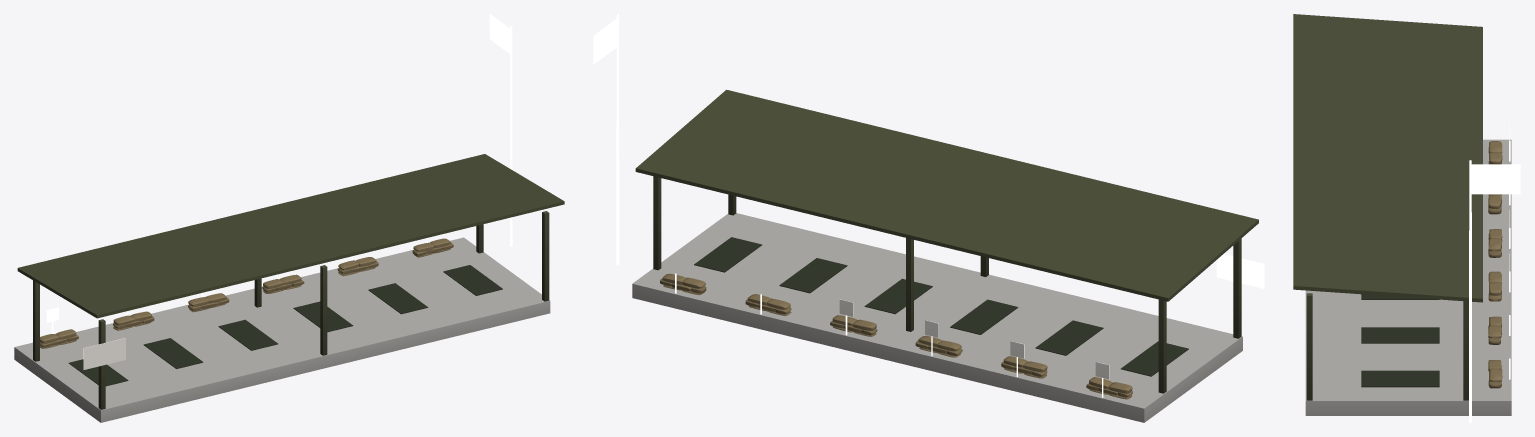
Rendered from range_firing_point.glb.
The picture shows the model from 3 angles, left to right: view 1: azimuth 30°, elevation 25°; view 2: azimuth 150°, elevation 25°; view 3: azimuth 270°, elevation 25°; orthographic projection. The views are drawn at different scales.
Visible parts, largest first — view 1: range_firing_point_LOD0; view 2: range_firing_point_LOD0; view 3: range_firing_point_LOD0.
Part boxes in pixels (x1,y1,x2,y2): range_firing_point_LOD0: [14, 14, 564, 422]; range_firing_point_LOD0: [593, 14, 1264, 422]; range_firing_point_LOD0: [1293, 14, 1520, 422].
Size of what is drawn, in the model's own units: 16.64 by 7.3 by 5.52.
